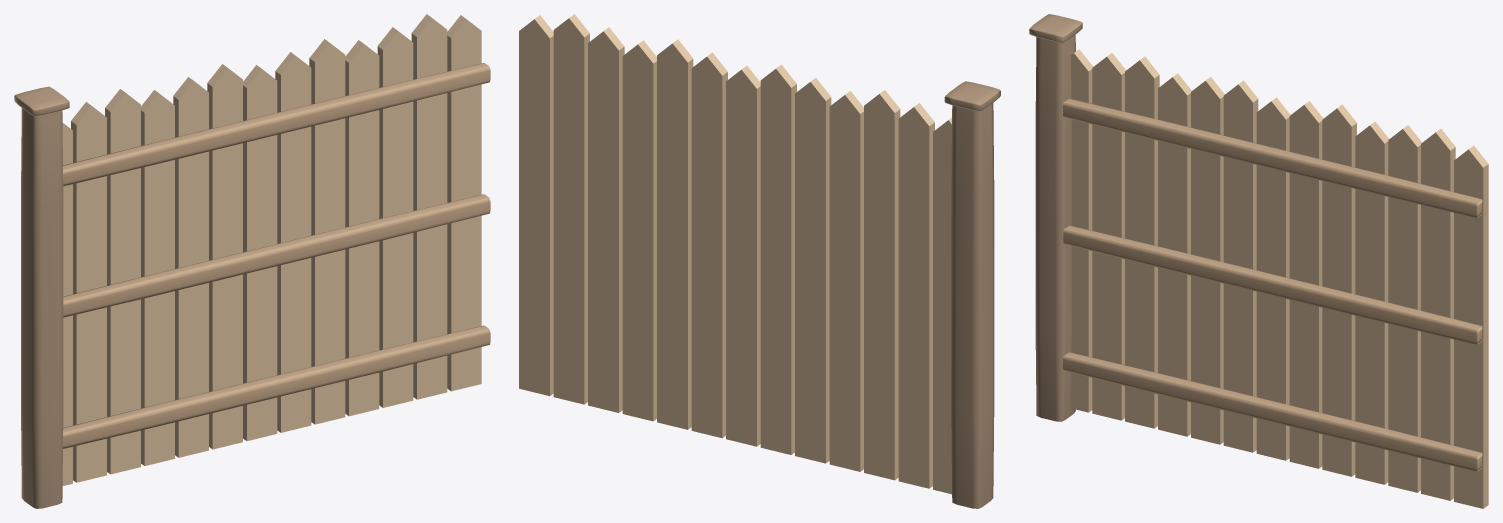
File: StruggleFence.glb
3 views of the same model, side by side, from view 1: azimuth 30°, elevation 25°; view 2: azimuth 150°, elevation 25°; view 3: azimuth 330°, elevation 25° (orthographic). The views are drawn at different scales.
Parts seen in each view (by area): view 1: Boards, Rails, Post; view 2: Boards, Post; view 3: Boards, Rails, Post.
Part boxes in pixels (bbox=[...]): Boards: bbox=[62, 14, 481, 485]; Rails: bbox=[63, 63, 490, 448]; Post: bbox=[14, 86, 69, 508]; Boards: bbox=[519, 14, 951, 494]; Post: bbox=[944, 81, 1000, 508]; Boards: bbox=[1070, 49, 1488, 508]; Rails: bbox=[1062, 98, 1482, 471]; Post: bbox=[1029, 14, 1082, 421].
Size of the model in its own units: 12.5 by 10.51 by 0.9954.
